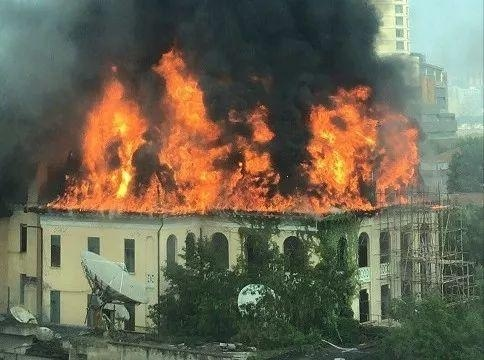fire: (43, 44, 418, 220)
